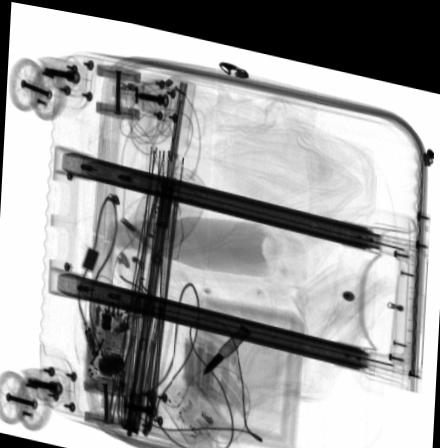Bullet: (203, 315, 252, 367)
